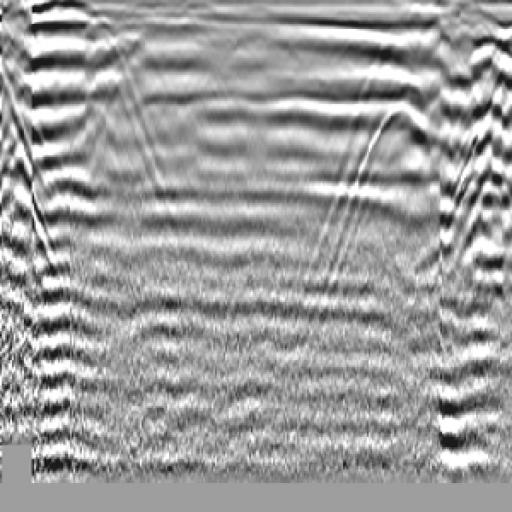metalic: (417, 22, 512, 320)
non-metallic: (322, 83, 469, 320), (27, 1, 100, 474), (1, 48, 48, 290)
